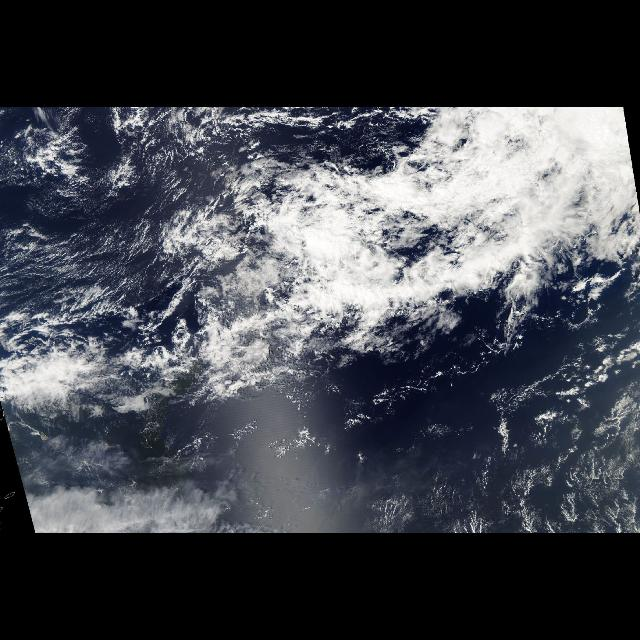Sugar: (9, 114, 158, 312)
